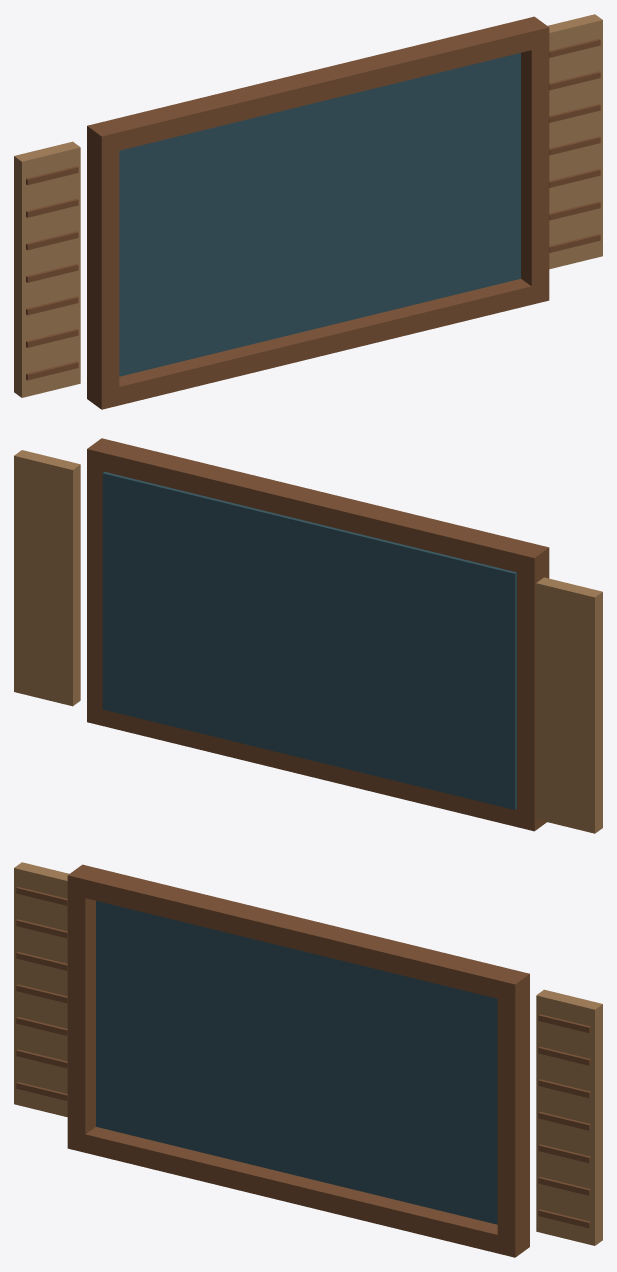
Rendered from window_08.glb.
3 views of the same model, one above another, from view 1: azimuth 30°, elevation 25°; view 2: azimuth 150°, elevation 25°; view 3: azimuth 330°, elevation 25° (orthographic).
Visible parts, largest first — view 1: window_08; view 2: window_08; view 3: window_08.
Boxes of the visible parts, x1=… form: window_08: x1=14, y1=14, x2=602, y2=409; window_08: x1=14, y1=438, x2=602, y2=833; window_08: x1=14, y1=862, x2=602, y2=1257.
Bounding box in the file's own units: 2.96 × 1.33 × 0.185.
